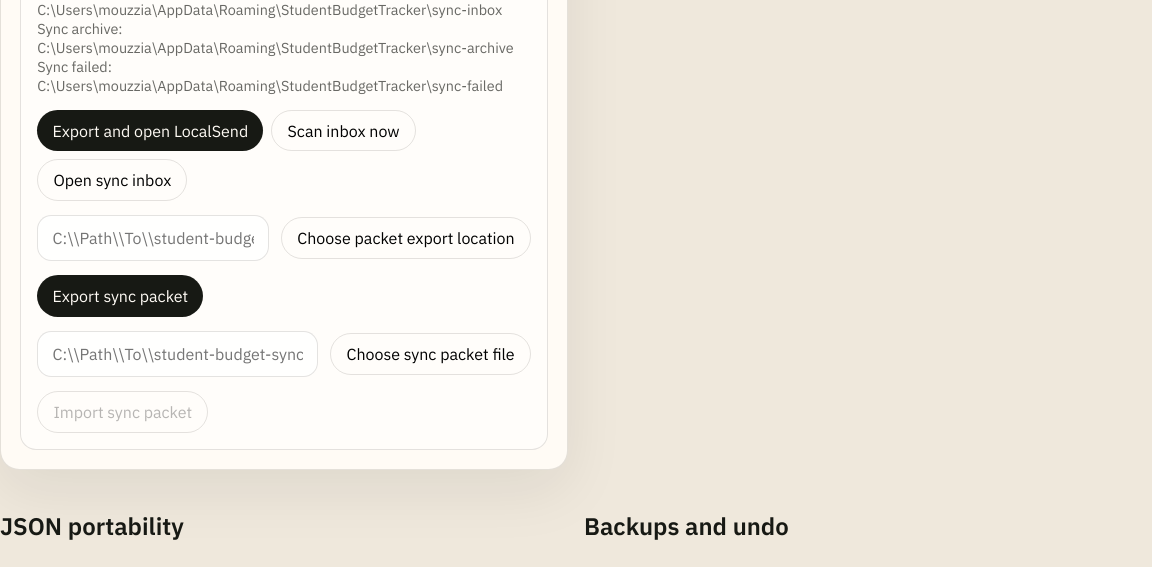
Test: SettingsPage › imports a sync packet and refreshes state
(page scrolled)
Click the button "Choose sync packet file": (431, 354) left=330, top=333, right=531, bottom=375
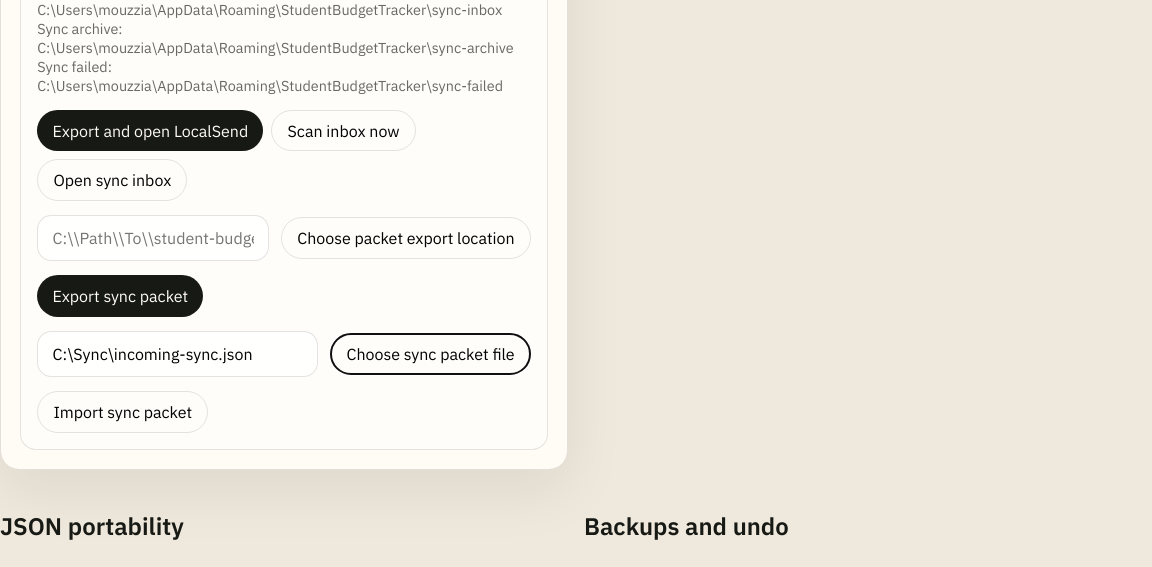
Expected: the field named "Import sync packet path" holds "C:\\Sync\\incoming-sync.json", left=37, top=331, right=318, bottom=377
Click the button "Import sync packet": (123, 412) left=37, top=391, right=208, bottom=433
(page scrolled)
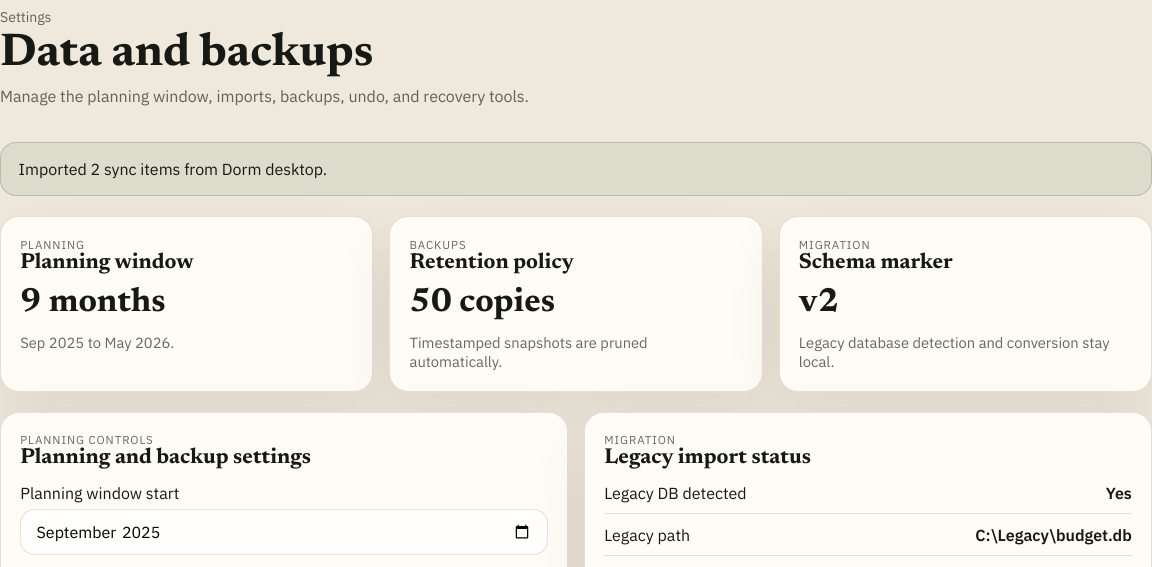
Expected: the text "Imported 2 sync items from Dorm desktop." is shown, left=19, top=159, right=327, bottom=179
